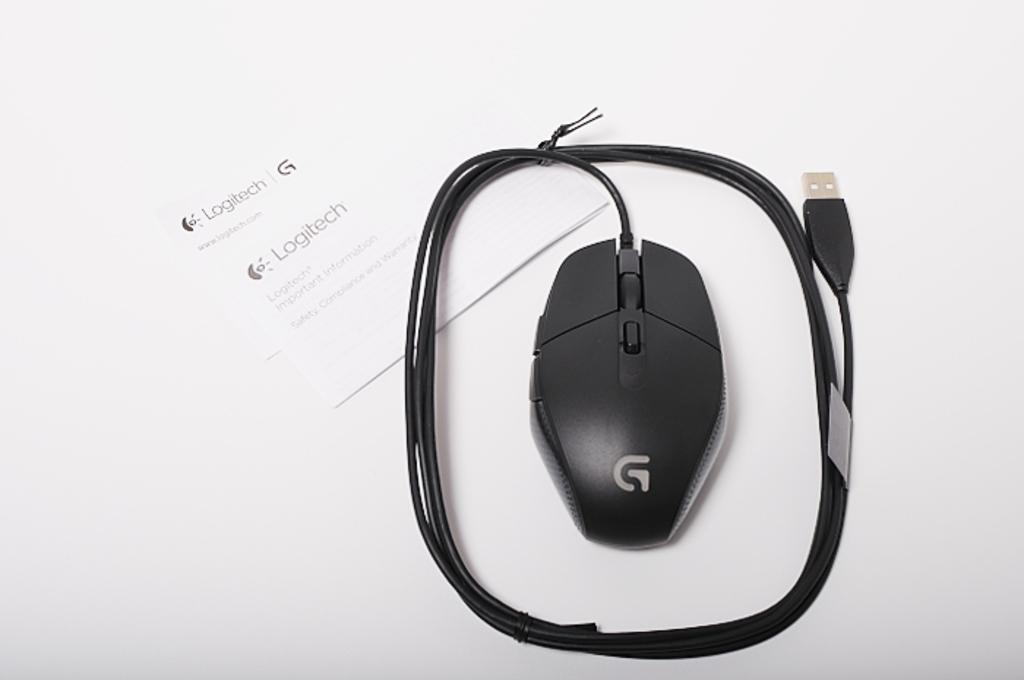Computer-mouse: (530, 233, 730, 548)
